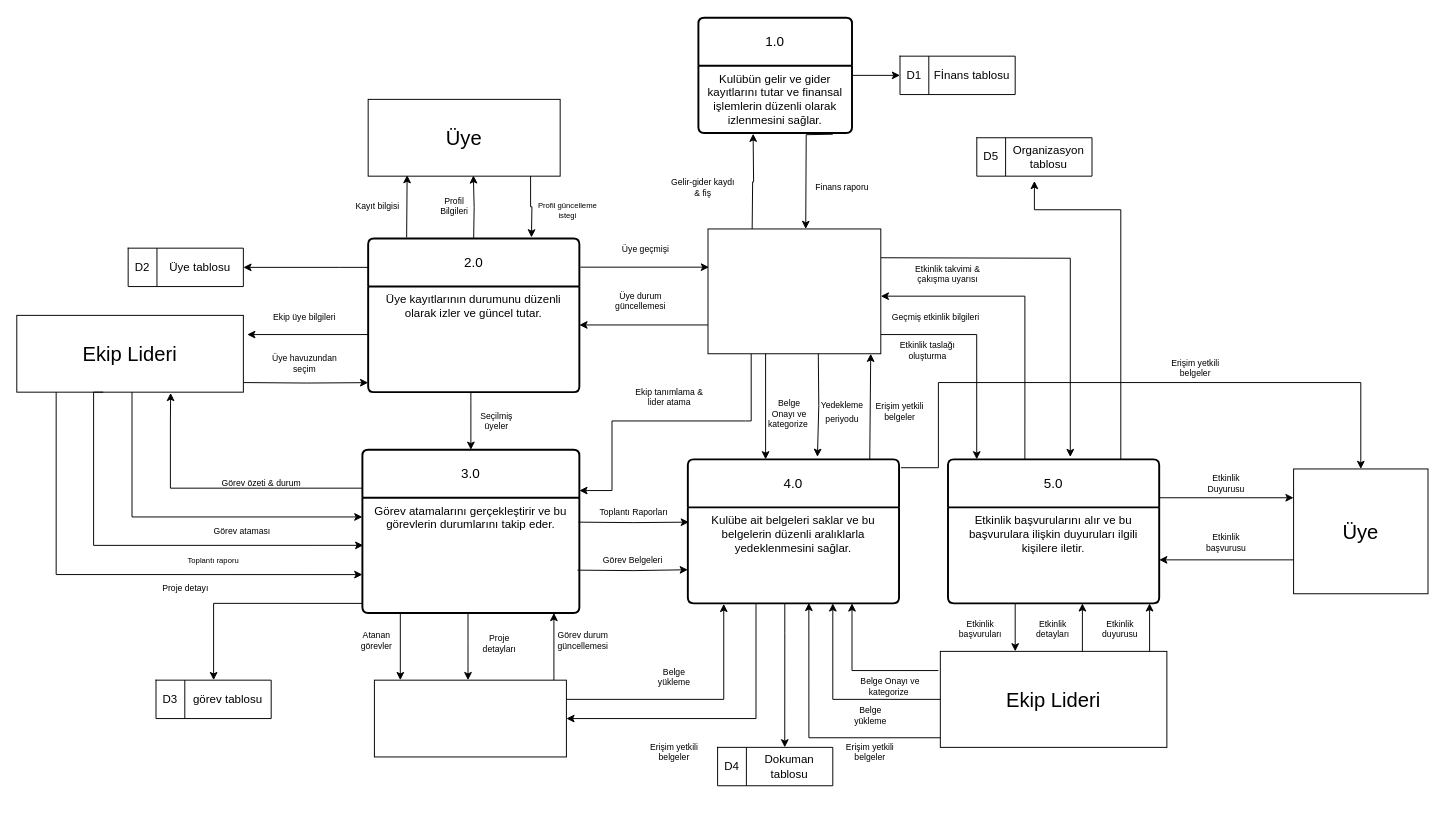
The diagram is 1445 pixels wide and 830 high, and some of its shapes have lost their labels. The centre of each missing label's shape, as x and y in pixels:
Ekip Uyesi: (469,718)
Kulup Yöneticisi: (794,291)
